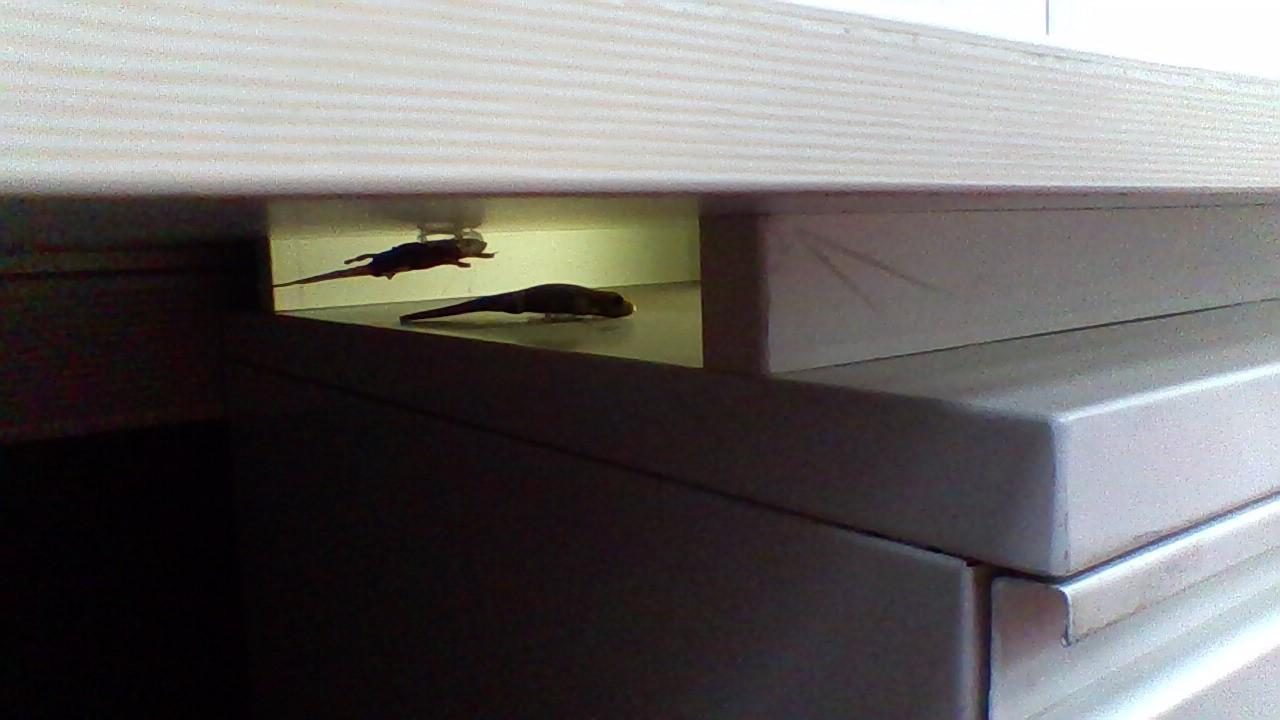cockroach: (320, 226, 491, 272)
lizard: (402, 286, 642, 327)
